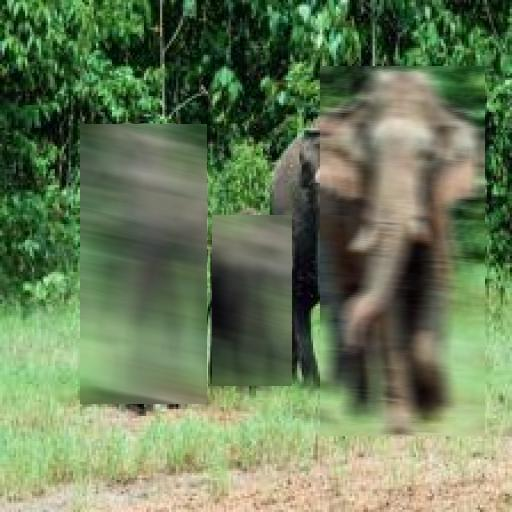Elephant: (320, 66, 485, 436), (80, 124, 207, 404), (212, 215, 292, 386)
